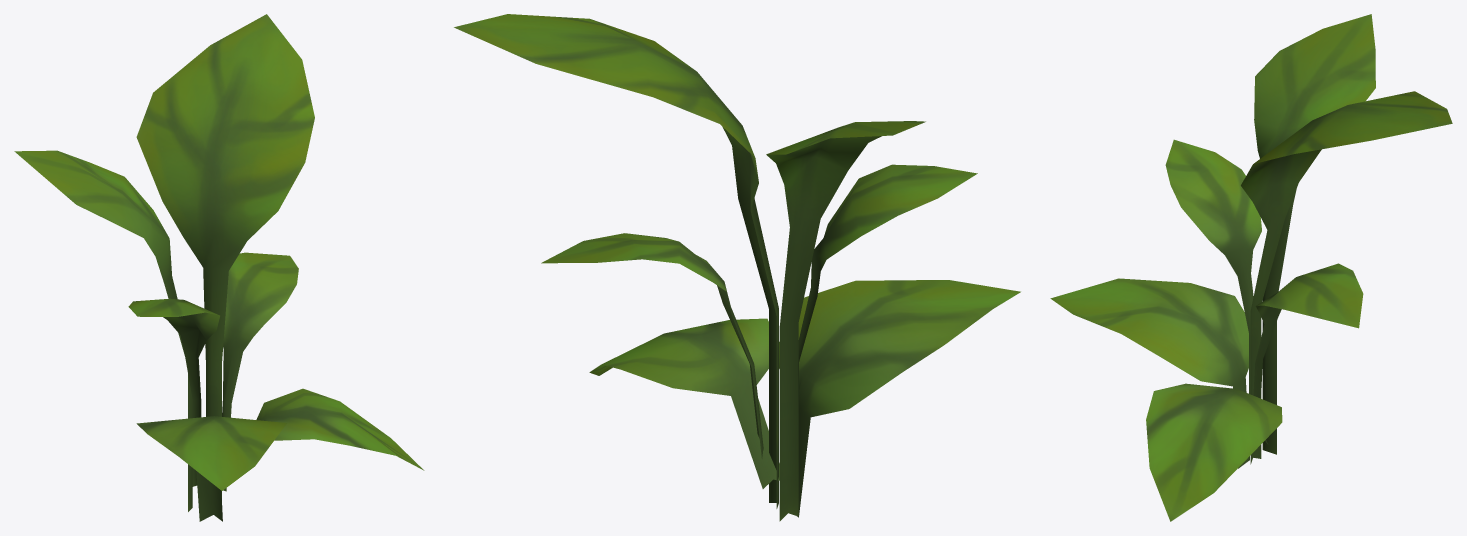
File: Plant2.fbx
3 views of the same model, side by side, from view 1: azimuth 30°, elevation 25°; view 2: azimuth 150°, elevation 25°; view 3: azimuth 270°, elevation 25° (orthographic). The views are drawn at different scales.
Visible parts, largest first — view 1: Plant2; view 2: Plant2; view 3: Plant2.
Part boxes in pixels (x1,y1,x2,y2): Plant2: (14,14,424,521); Plant2: (454,14,1020,521); Plant2: (1050,14,1452,521).
Bounding box in the file's own units: 12.52 × 15.09 × 13.09.
Materials: 1 (1 with a texture image).
